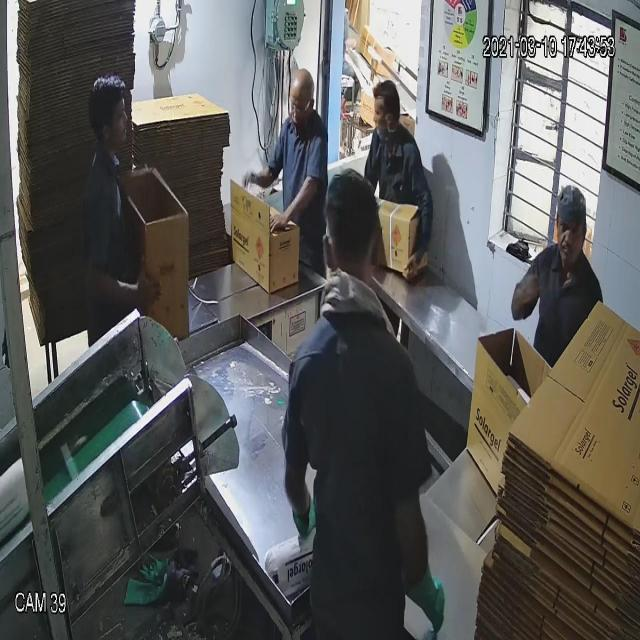No_Gloves: (60, 68, 296, 284)
